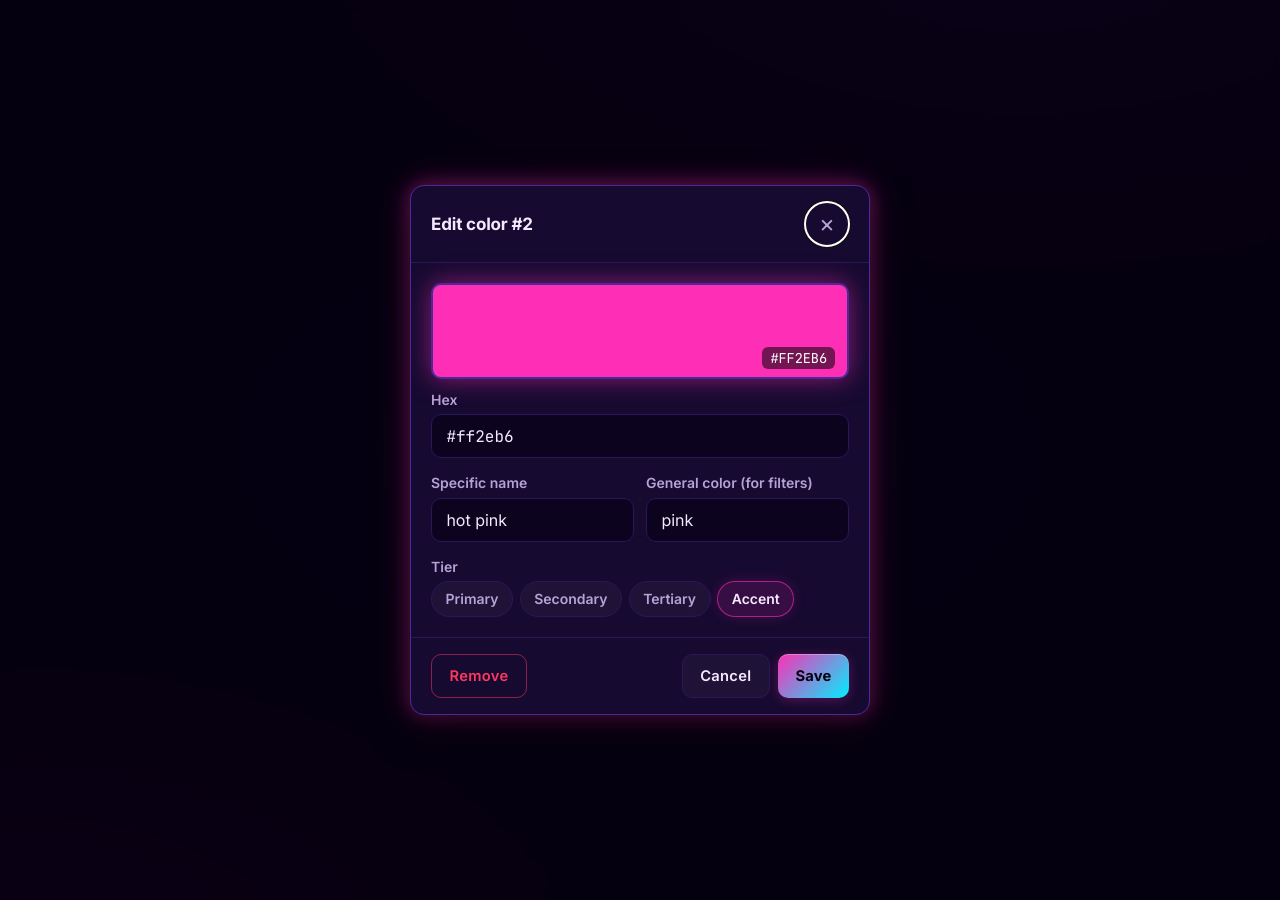
Test: ColorEditModal — save › refreshes every view that shows the palette, not only the hat and the list
Click the button "Save": (814, 676) [778,654,849,698]
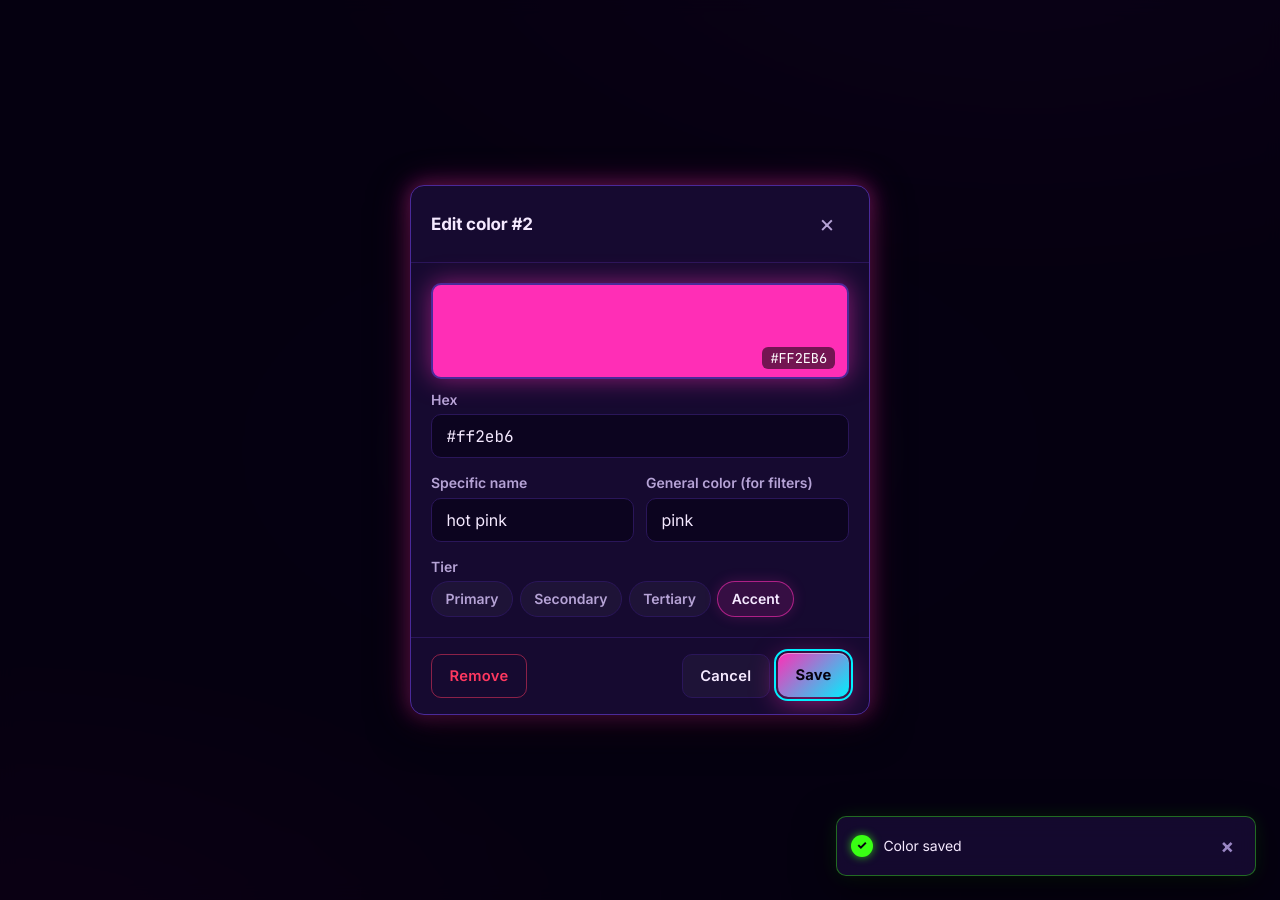
Now the text "Color saved" is shown, box [883,837,962,854]
